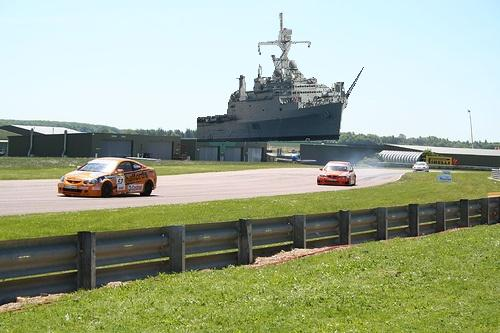tampered: (198, 13, 364, 142)
